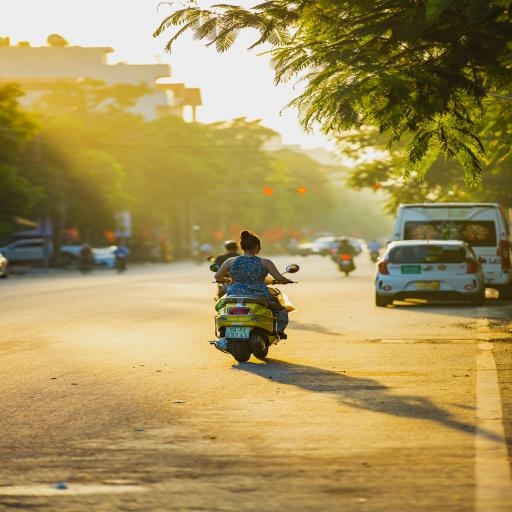place: (223, 327, 250, 339)
